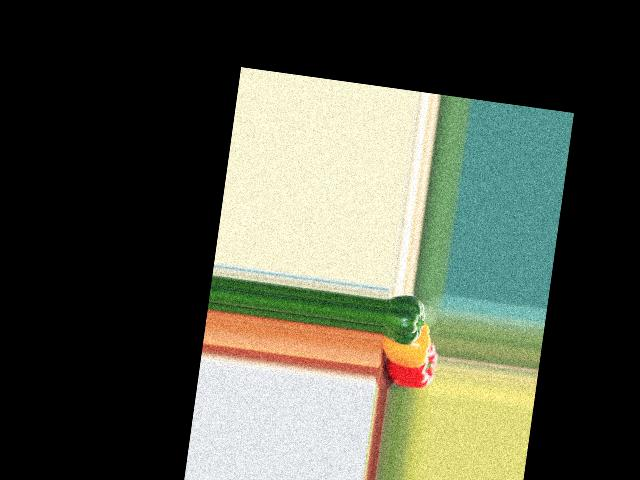bell_pepper: (377, 335, 439, 390)
